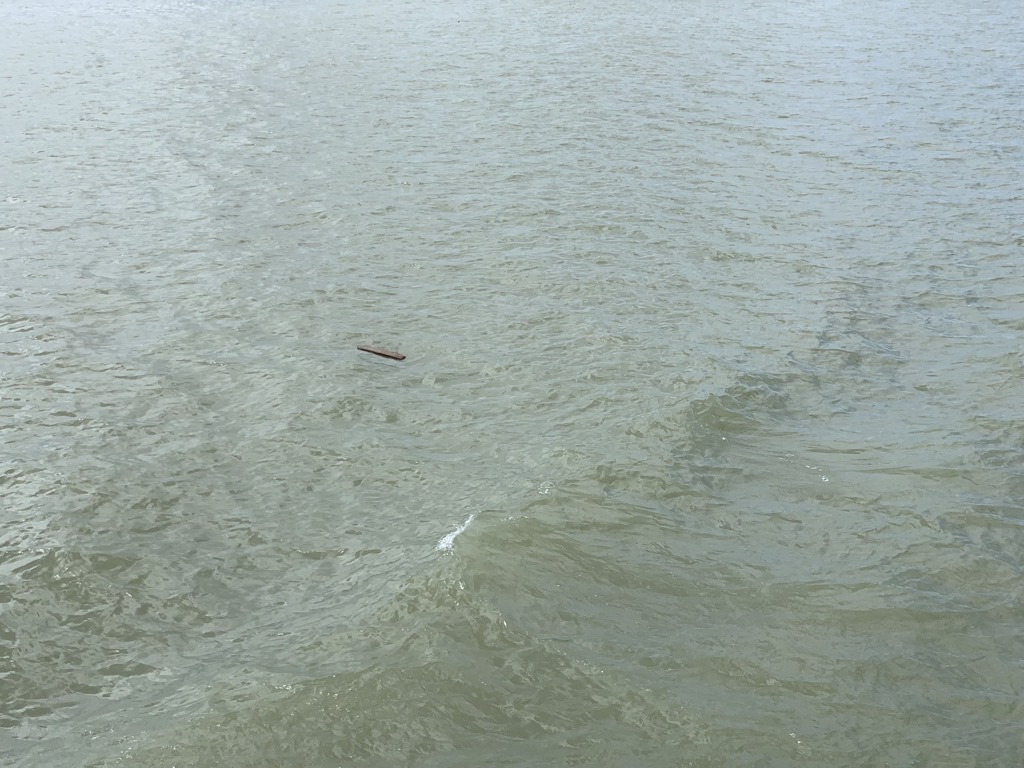plastic: (348, 332, 411, 368)
